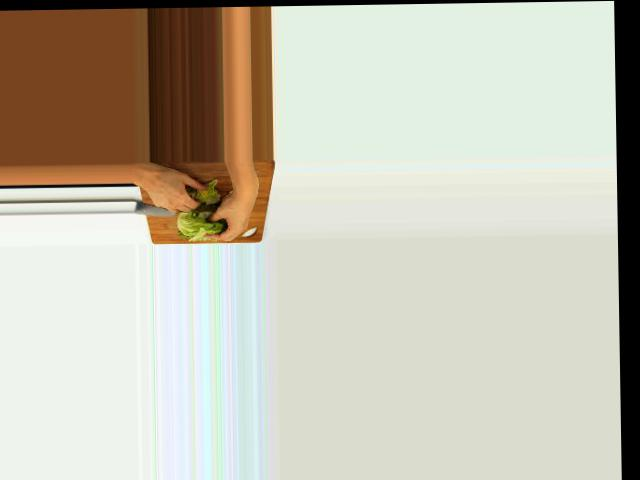lettuce: (176, 206, 224, 240)
